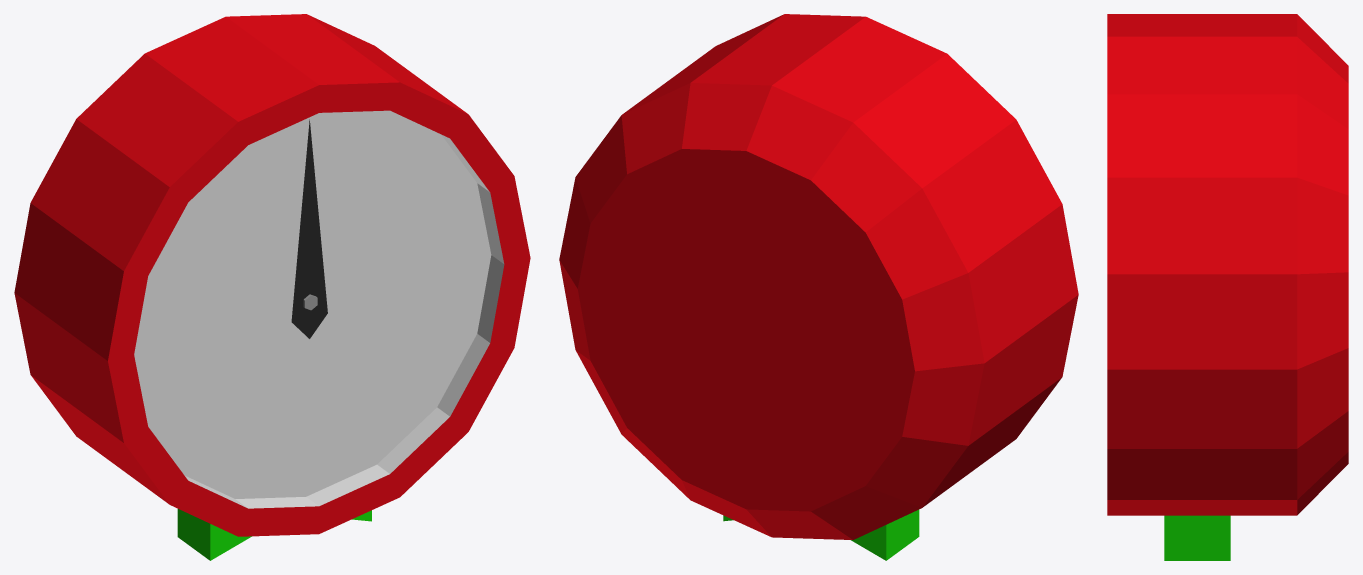
File: Clock.fbx
3 renders of one model, left to right at view 1: azimuth 30°, elevation 25°; view 2: azimuth 150°, elevation 25°; view 3: azimuth 270°, elevation 25°, orthographic.
Visible parts, largest first — view 1: ClockBase, ClockPointers_1, ClockPointers; view 2: ClockBase; view 3: ClockBase.
Boxes of the visible parts, <box> form: ClockBase: <box>14,14,530,560</box>; ClockPointers_1: <box>293,165,321,333</box>; ClockPointers: <box>291,119,327,338</box>; ClockBase: <box>559,14,1078,560</box>; ClockBase: <box>1107,14,1348,560</box>.
Bounding box in the file's own units: 121 × 131 × 59.05.
